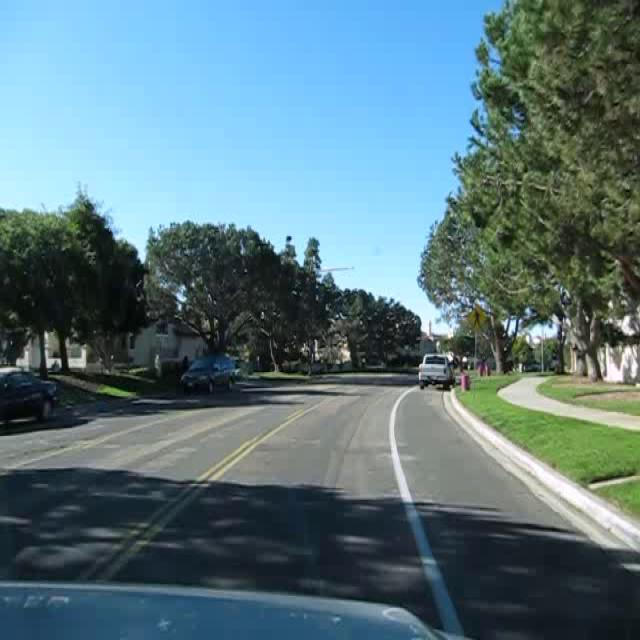pedestrianCrossing: (465, 302, 488, 330)
